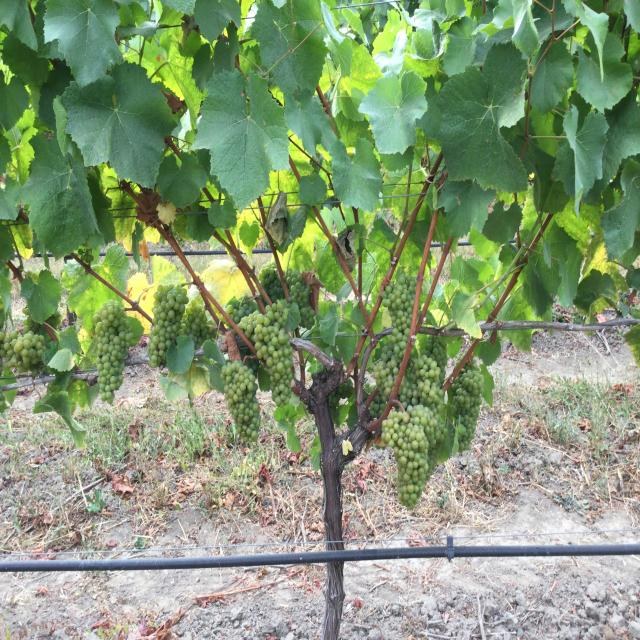grapes: (225, 297, 294, 407), (381, 405, 441, 508), (374, 273, 416, 393), (94, 300, 132, 403), (399, 337, 448, 413), (149, 283, 189, 367), (221, 360, 260, 442), (451, 360, 484, 452), (0, 317, 46, 375), (178, 298, 216, 348), (284, 268, 315, 328), (259, 262, 284, 302)
